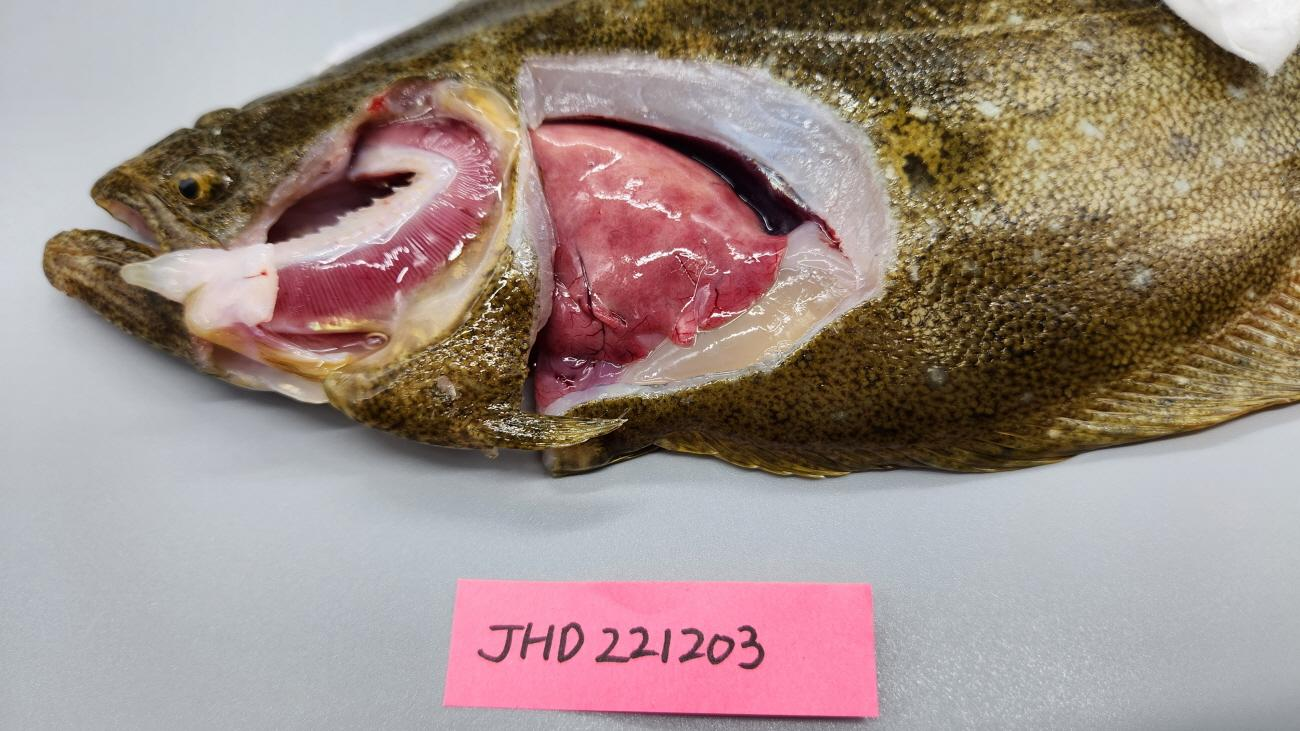MAGIN: (275, 278, 337, 320)
MAGIP: (342, 243, 381, 260)
